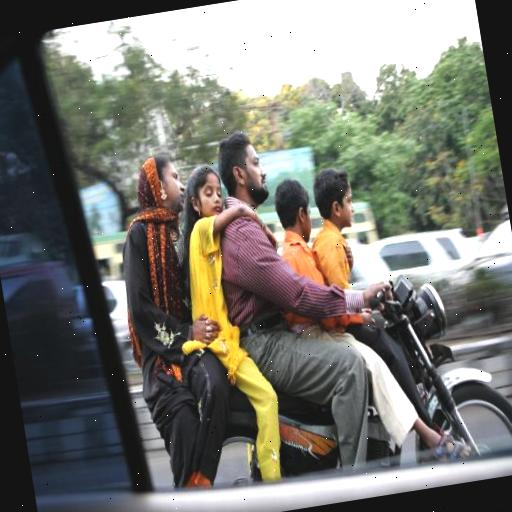no helmet: (204, 120, 302, 258)
triple riding: (95, 85, 512, 512)
